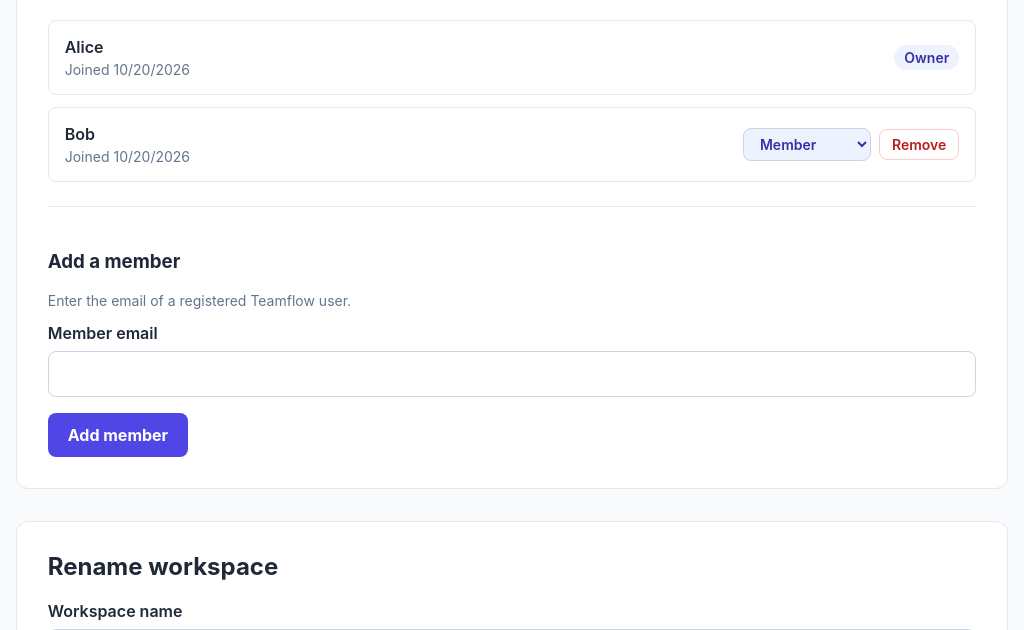
Scenario: WorkspaceDetailsPage › preserves the email and roster after failure and allows retry
The image size is (1024, 630).
(page scrolled)
Type "carol@example.com" into the field labelled "Member email". click: (512, 374)
box: [48,351,976,397]
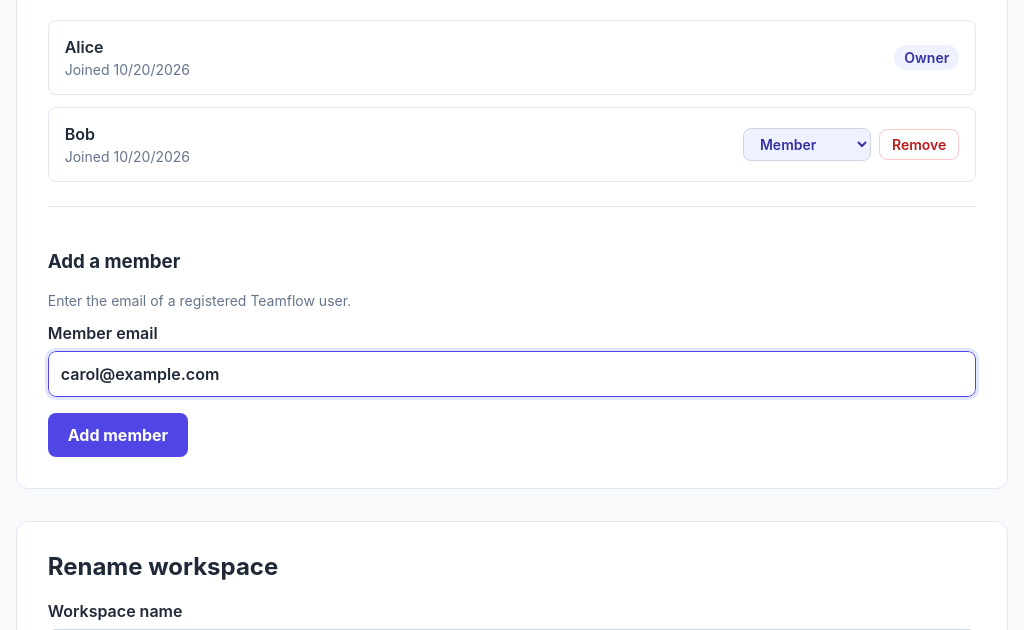
Click the button "Add member". click: (118, 435)
box: [48,413,188,457]
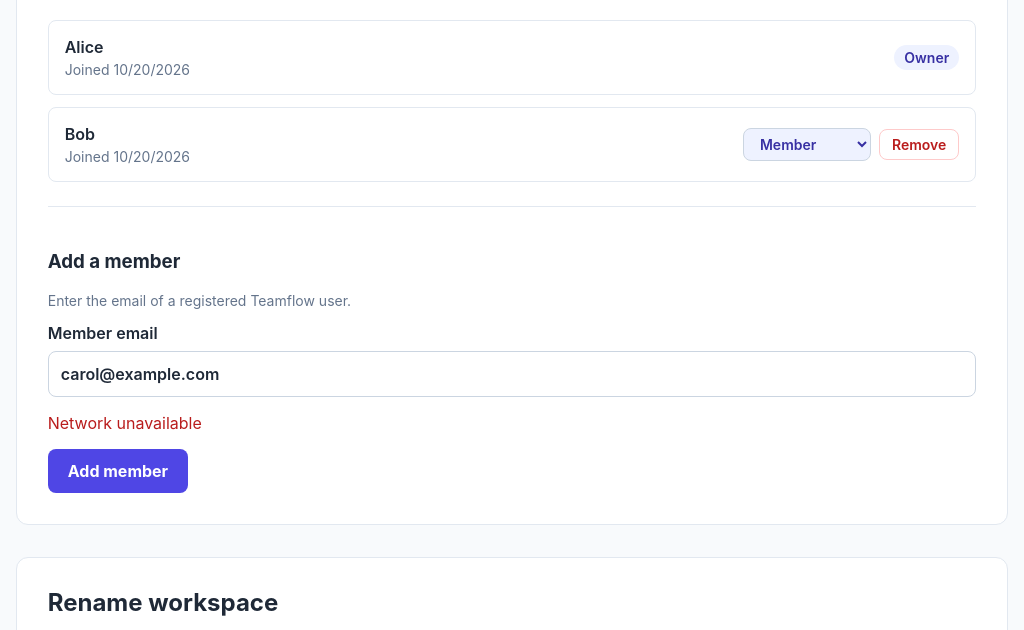
Expected: the number of list items is 2, [48,20,976,95]; [48,107,976,182]
Expected: the message reads "Network unavailable", [48,413,202,433]
Click the button "Add member". click: (118, 471)
box: [48,449,188,493]
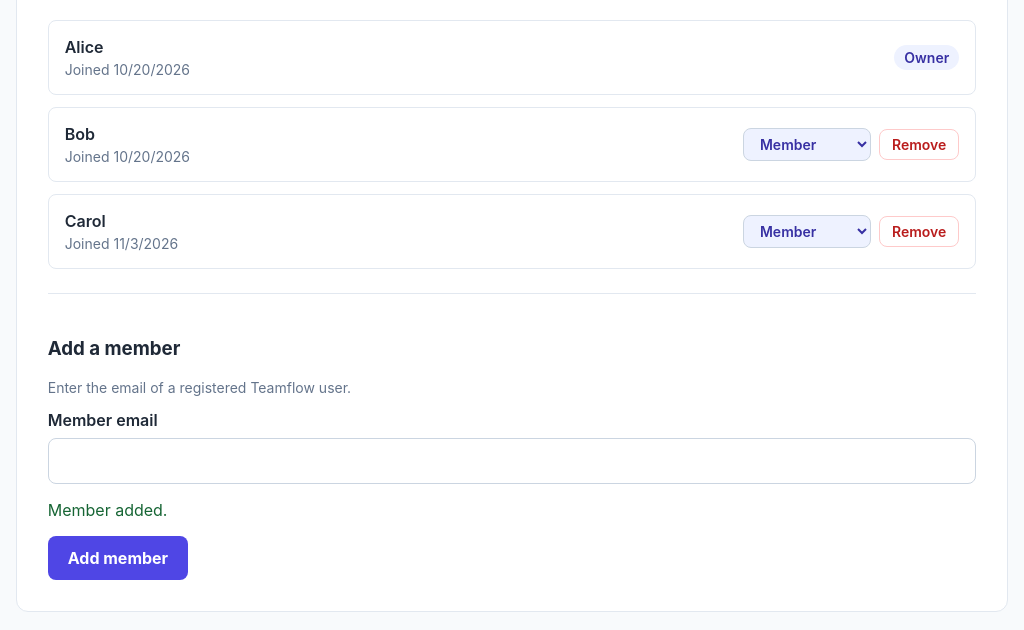
Expected: the message reads "Member added.", [48,500,168,520]
Expected: the field labelled "Member email" is empty, [48,438,976,484]
Expected: the number of list items is 3, [48,20,976,95]; [48,107,976,182]; [48,194,976,269]
